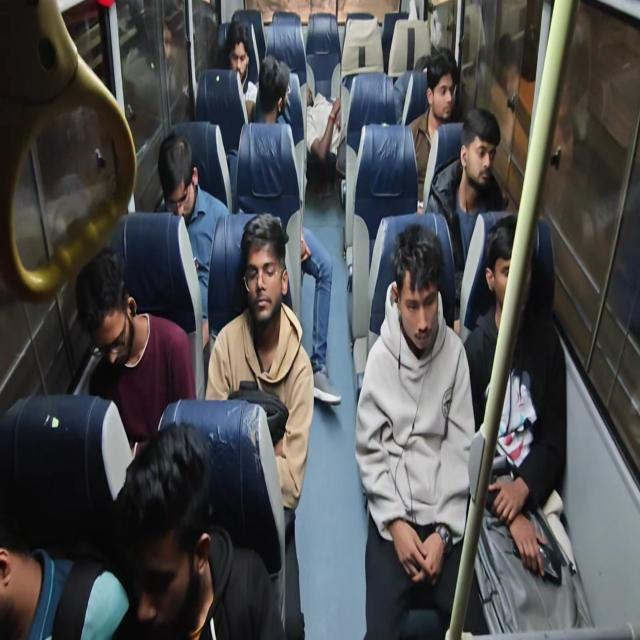person: (114, 423, 203, 635), (388, 215, 448, 354), (78, 259, 142, 387), (242, 209, 290, 332), (2, 467, 36, 639), (482, 223, 536, 331), (152, 142, 206, 232), (462, 100, 499, 197), (222, 21, 262, 88), (259, 46, 290, 130), (430, 49, 460, 122), (409, 42, 435, 82)
